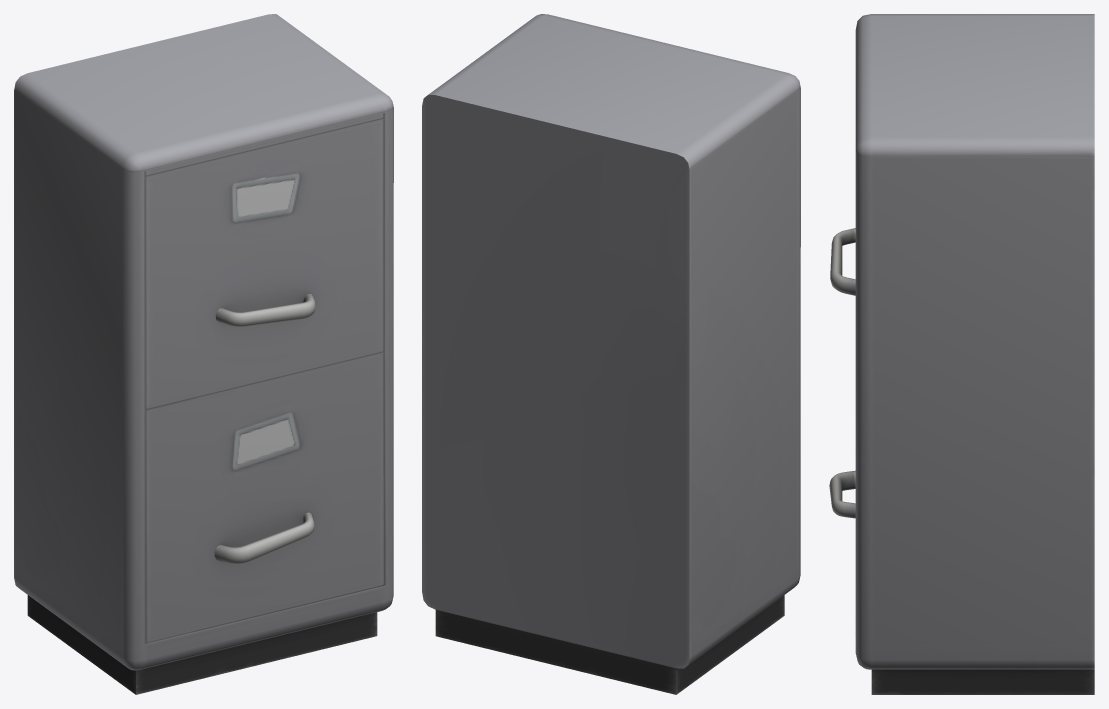
File: OfficeFileCabinet01_4.FBX
The picture shows the model from 3 angles, left to right: view 1: azimuth 30°, elevation 25°; view 2: azimuth 150°, elevation 25°; view 3: azimuth 270°, elevation 25°; orthographic projection. The views are drawn at different scales.
Visible parts, largest first — view 1: OfficeFileCabinet01_4; view 2: OfficeFileCabinet01_4; view 3: OfficeFileCabinet01_4.
Part boxes in pixels (<box>): OfficeFileCabinet01_4: <box>14,14,393,694</box>; OfficeFileCabinet01_4: <box>422,14,800,694</box>; OfficeFileCabinet01_4: <box>829,14,1094,694</box>.
Size of what is drawn, in the model's own units: 0.44 by 0.85 by 0.3665.
